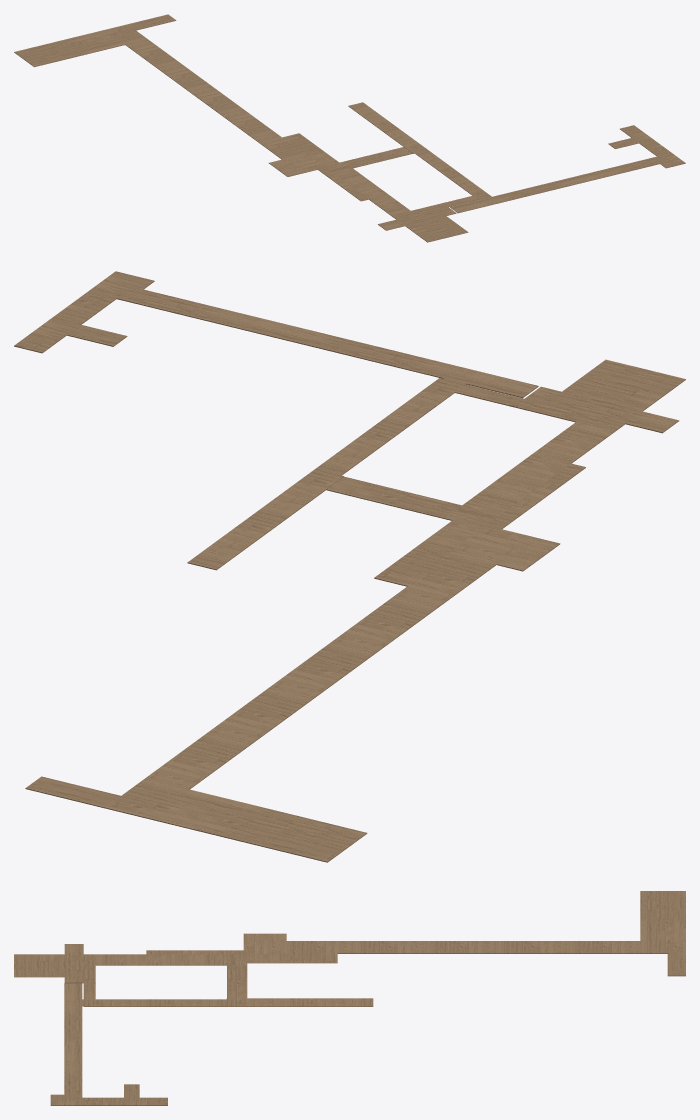
The model's file is ground.glb.
The picture shows the model from 3 angles, top to bottom: view 1: azimuth 30°, elevation 25°; view 2: azimuth 150°, elevation 25°; view 3: azimuth 270°, elevation 25°; orthographic projection. The views are drawn at different scales.
Parts seen in each view (by area): view 1: ground_corridor; view 2: ground_corridor; view 3: ground_corridor.
Boxes of the visible parts, x1,y1,x2,y2 form: ground_corridor: (14,14,685,242); ground_corridor: (14,271,685,862); ground_corridor: (14,891,685,1105).
Bounding box in the file's own units: 191 × 0.2017 × 253.
1 material, 1 textured.
